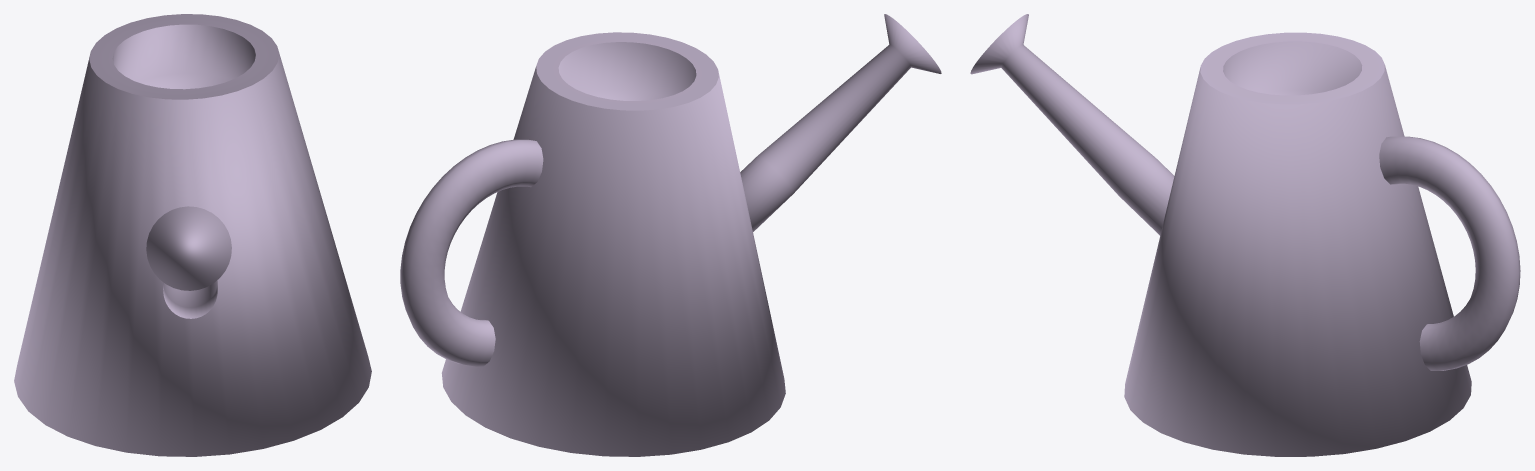
File: regadera3d.fbx
3 views of the same model, side by side, from view 1: azimuth 30°, elevation 25°; view 2: azimuth 150°, elevation 25°; view 3: azimuth 270°, elevation 25° (orthographic). The views are drawn at different scales.
Visible parts, largest first — view 1: Cylinder; view 2: Cylinder; view 3: Cylinder.
Boxes of the visible parts, box(x1,y1,x2,y2) form: Cylinder: box(14, 14, 371, 456); Cylinder: box(400, 14, 941, 456); Cylinder: box(970, 14, 1520, 456).
Size of the model in its own units: 42.41 by 39.23 by 60.14.
